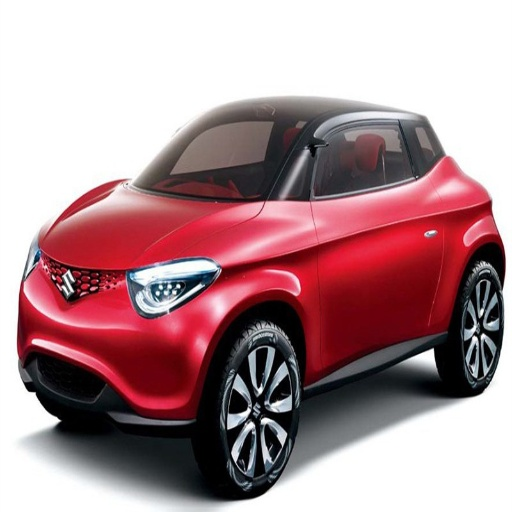back_glass: (329, 123, 375, 184)
front_bumper: (19, 257, 223, 426)
front_glass: (133, 107, 312, 199)
front_left_door: (322, 244, 407, 371)
